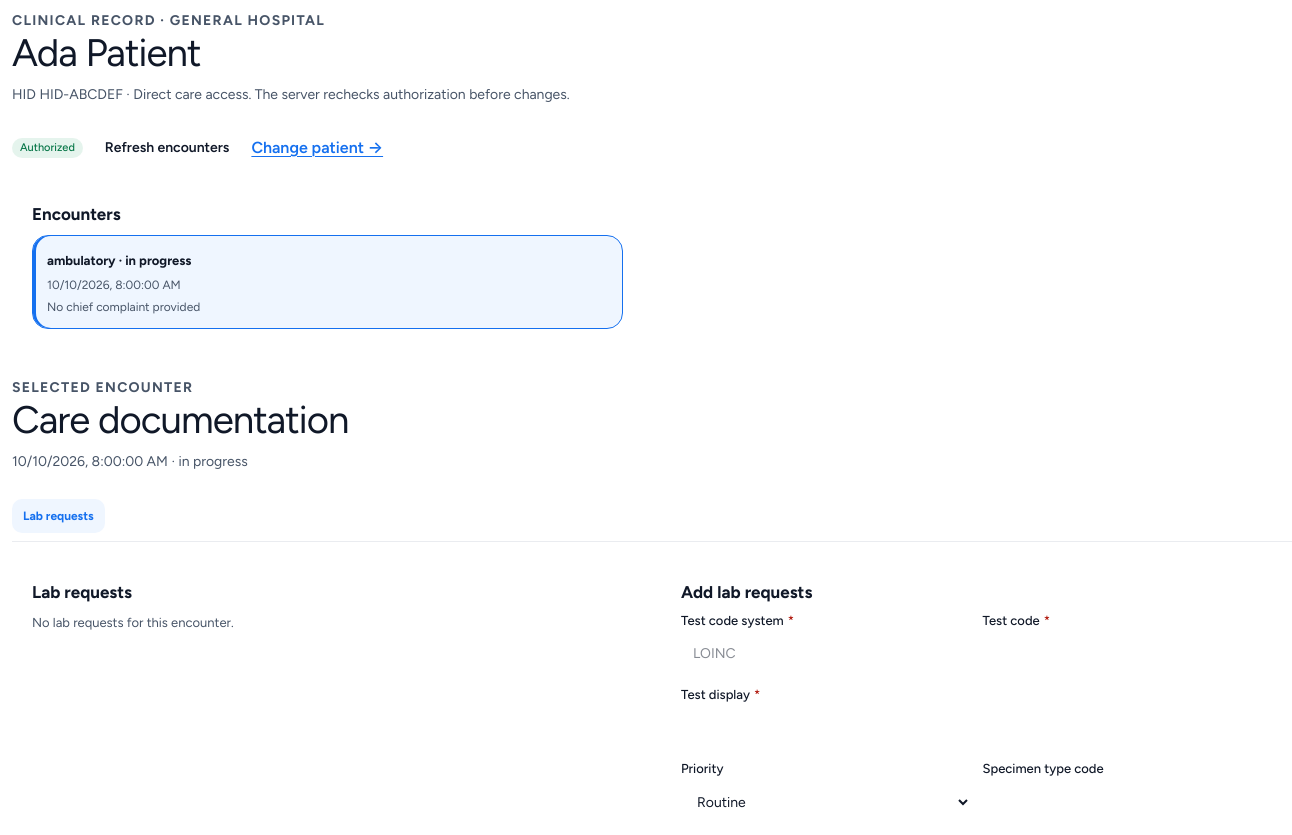
Test case: an order the laboratory reports it accepted for the wrong person › says nothing came back from an order ended before anything was released
Step 1. Click the tab "Lab requests" → (58, 516), box left=12, top=499, right=105, bottom=533
(page scrolled)
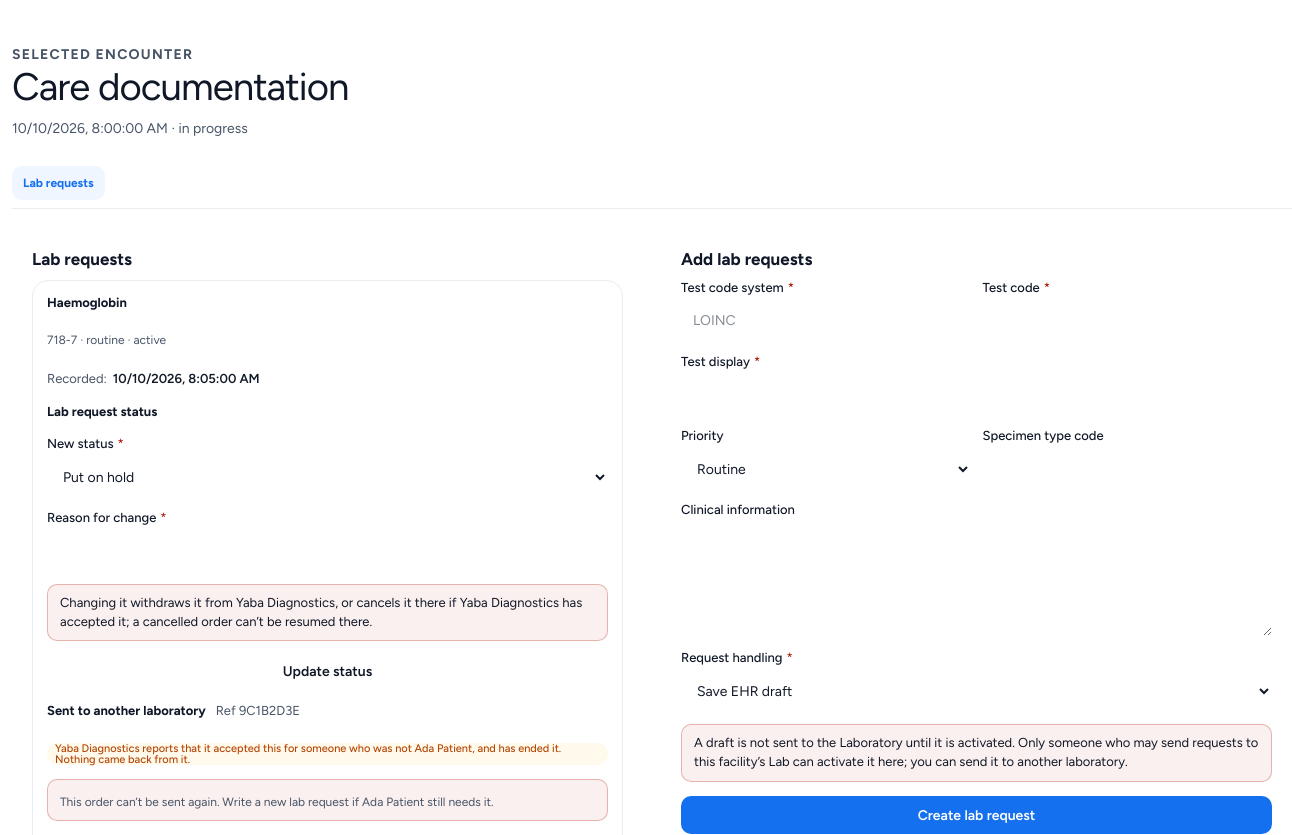
Expected: the element with class "staff-danger" shows "This order can’t be sent again. Write a new lab request if Ada Patient still needs it.", left=60, top=795, right=494, bottom=809
